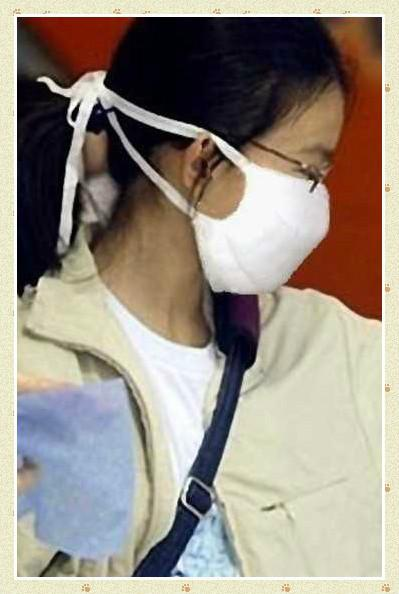OK: (182, 127, 345, 300)
